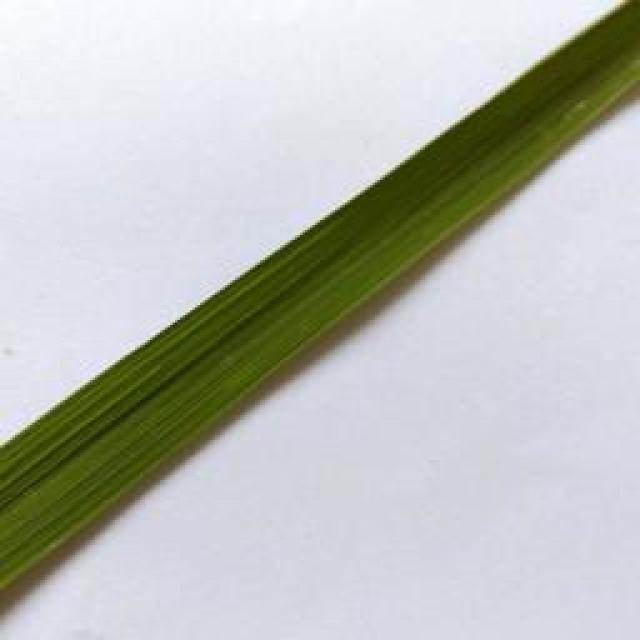Healthy-Plant: (0, 0, 640, 591)
